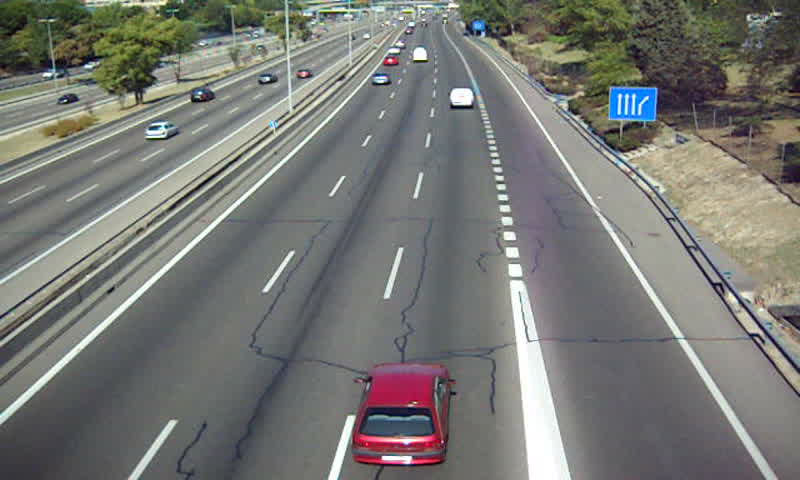car: (353, 363, 451, 466), (371, 71, 390, 86)
van: (449, 87, 474, 109)
